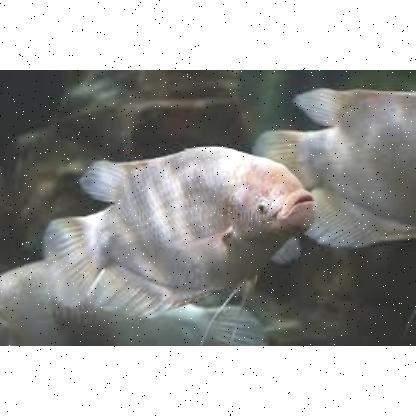gurame: (48, 147, 312, 307), (258, 85, 416, 245)
